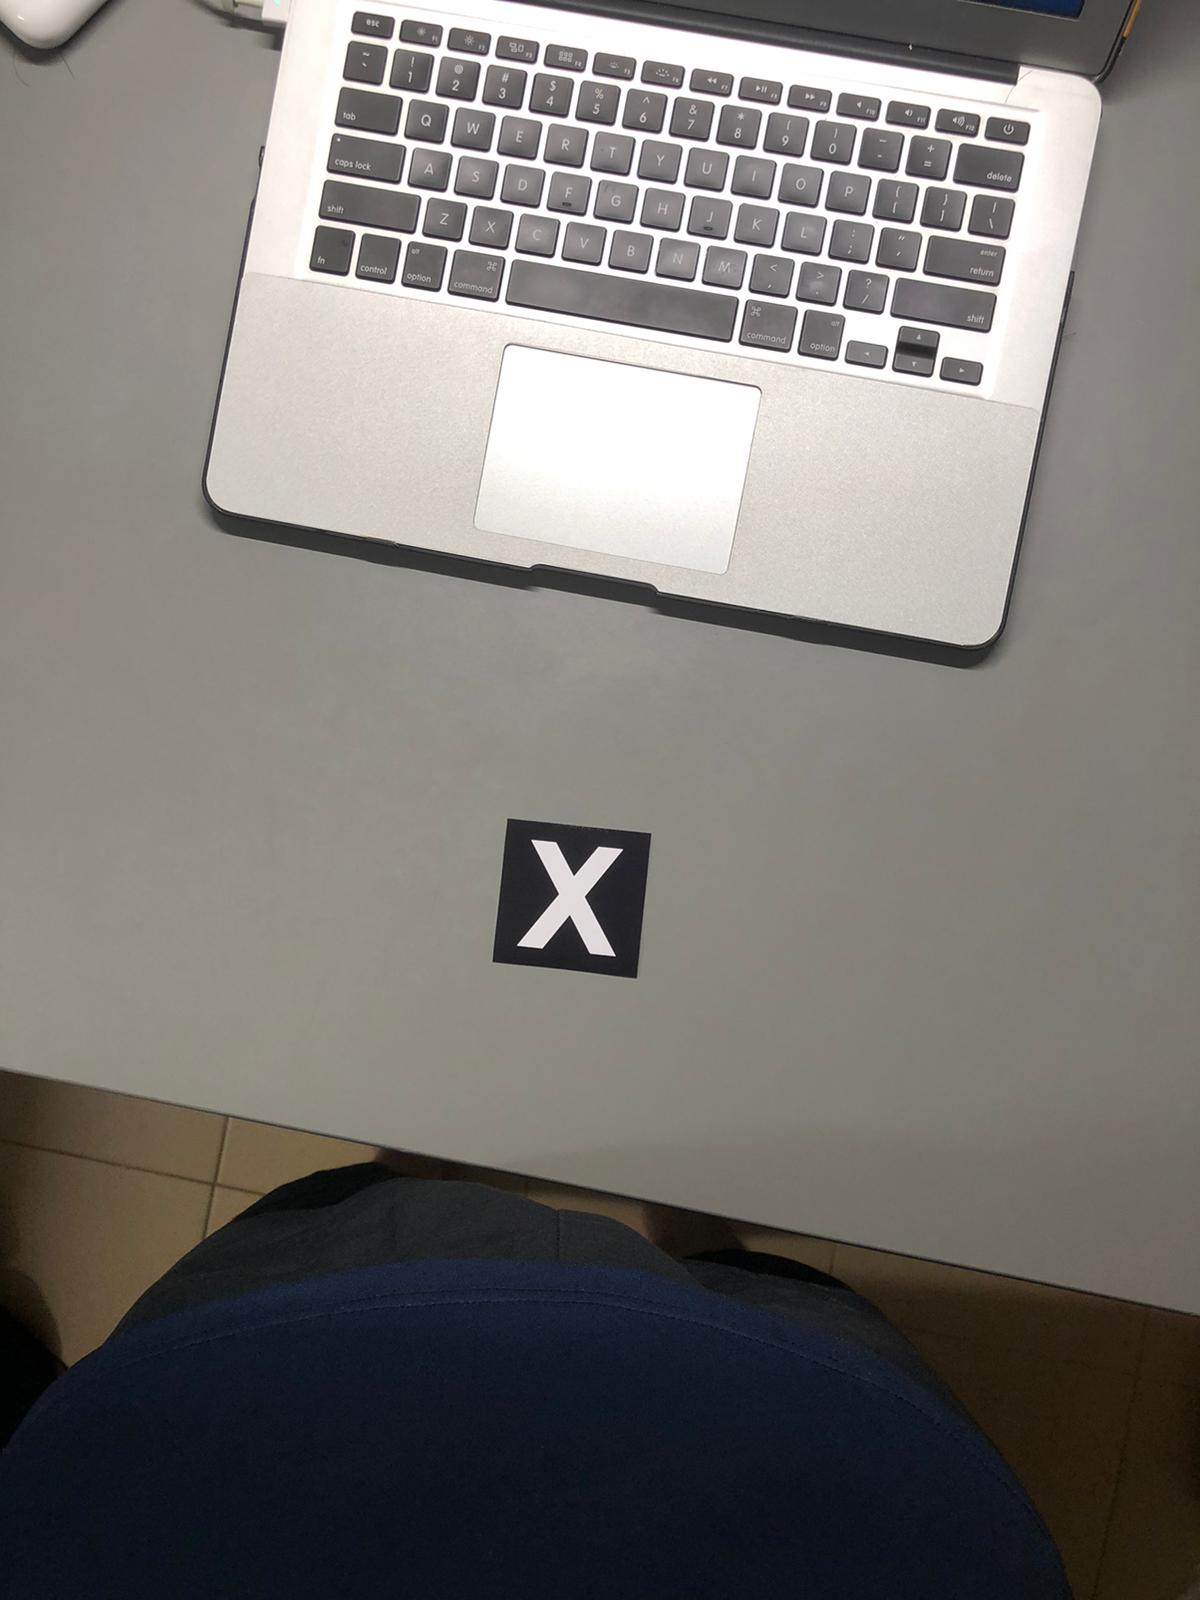X: (508, 826, 632, 974)
